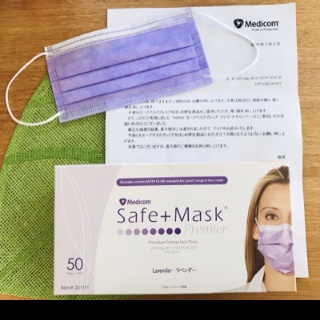with_mask: (257, 205, 294, 276)
